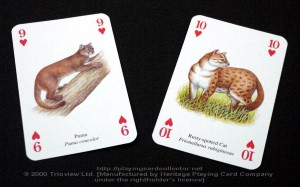NineOfHearts: (10, 9, 138, 160)
TenOfHearts: (151, 14, 288, 171)
